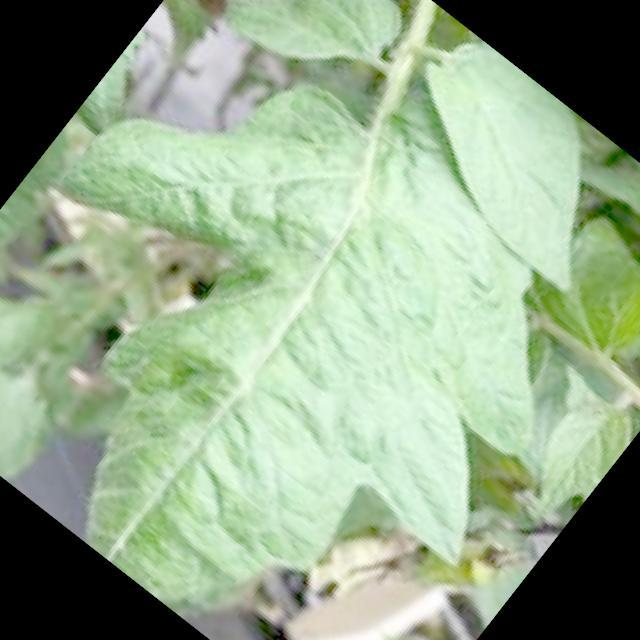Tomato healthy leaf: (20, 44, 581, 609), (517, 374, 636, 526), (221, 0, 406, 64)
